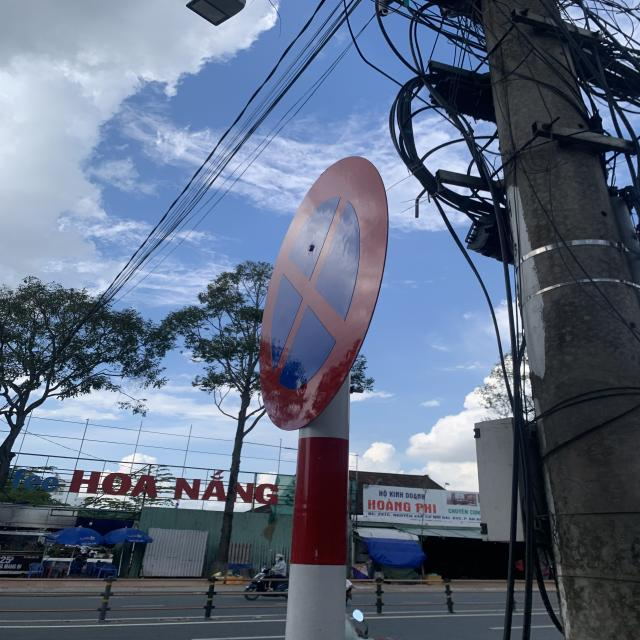Cam_Dung_Va_Dau_Xe: (256, 156, 392, 435)
